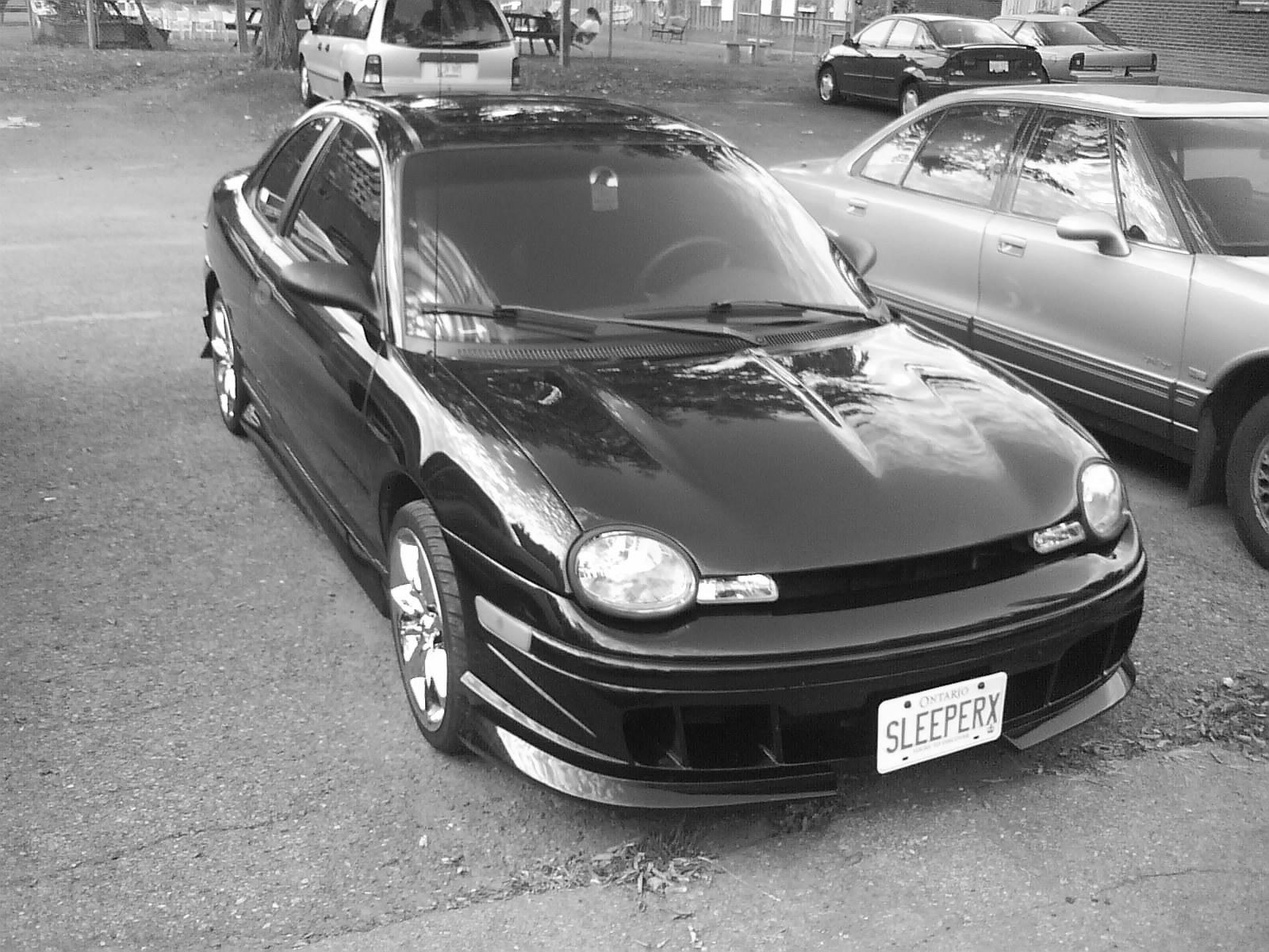car: (191, 91, 1149, 806)
